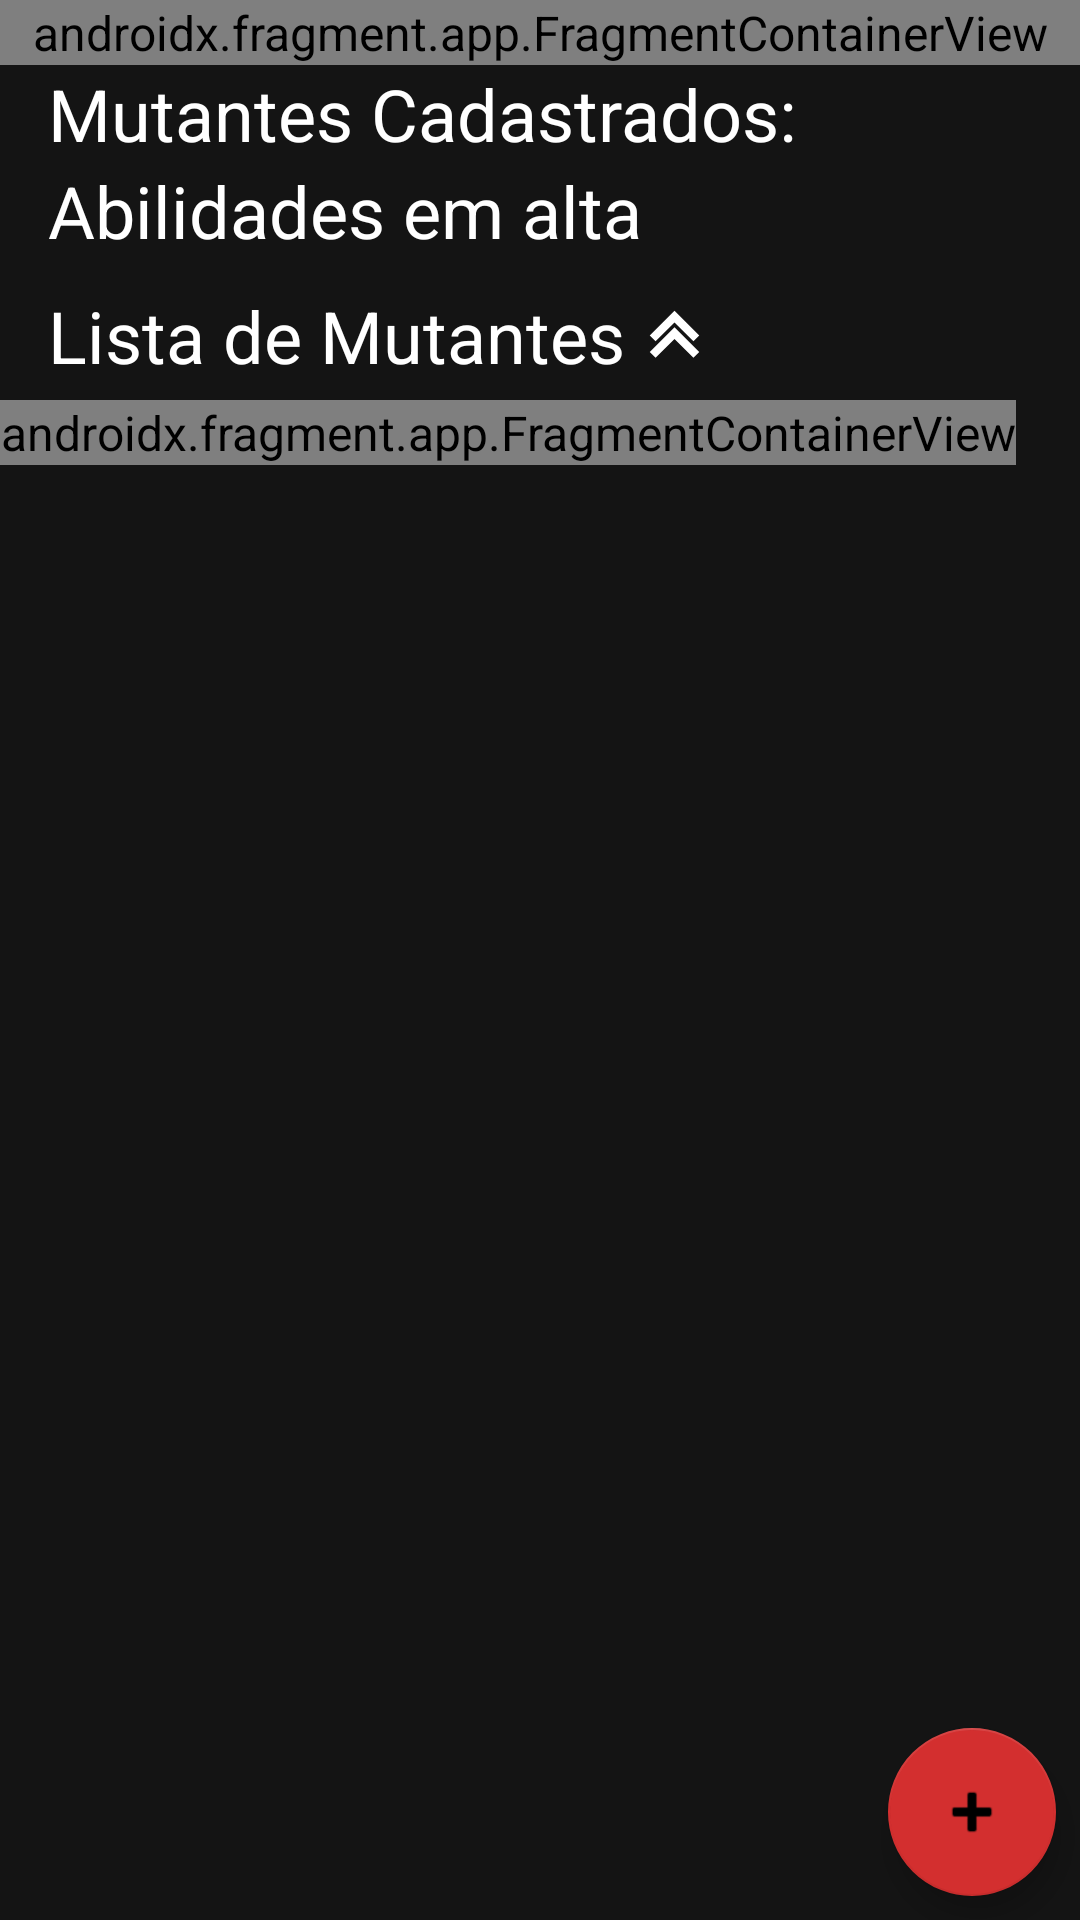

Locate icon controls on the screen. Image size 1080px×1920px, boxes as region(x1, y1, x2, y2).
Adicionar mutante: region(888, 1728, 1056, 1896)
keyboard arrow up: region(650, 311, 699, 358)
